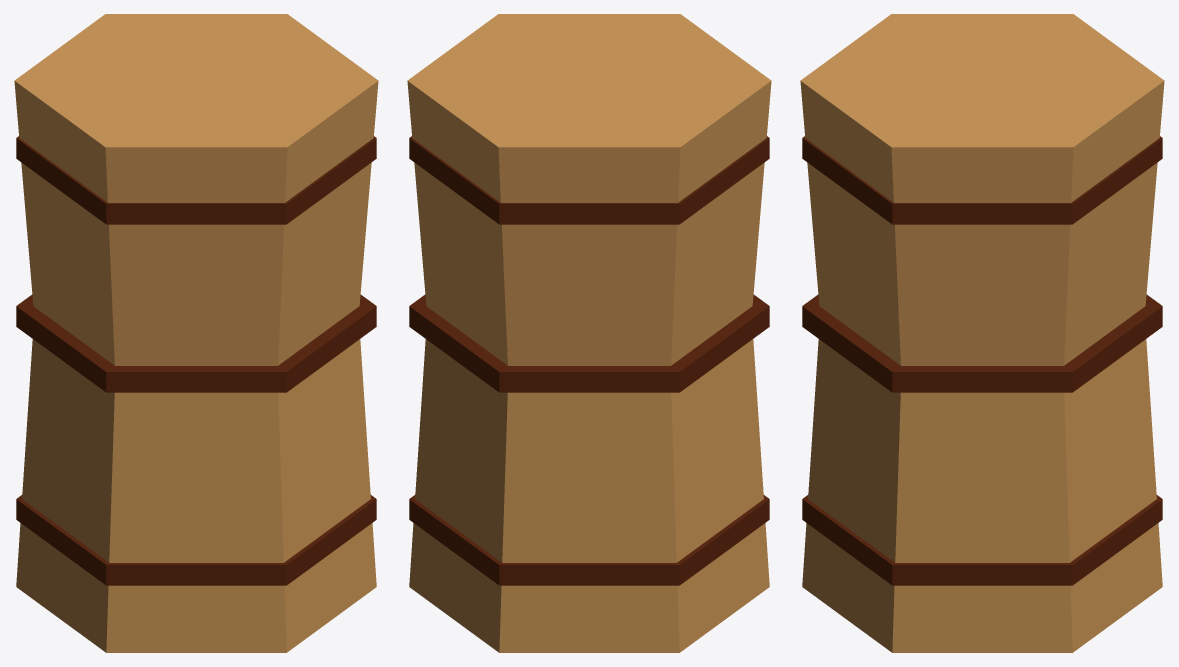
File: thatch.fbx
3 renders of one model, left to right at view 1: azimuth 30°, elevation 25°; view 2: azimuth 150°, elevation 25°; view 3: azimuth 270°, elevation 25°, orthographic.
Parts seen in each view (by area): view 1: Cylinder; view 2: Cylinder; view 3: Cylinder.
Boxes of the visible parts, x1,y1,x2,y2 form: Cylinder: (14, 14, 378, 652); Cylinder: (407, 14, 771, 652); Cylinder: (800, 14, 1164, 652).
Size of the model in its own units: 175 by 310 by 202.
